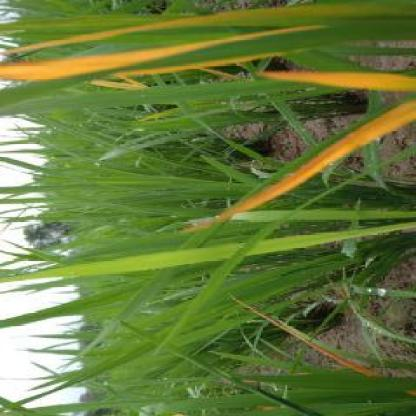Tungro: (205, 98, 416, 226), (1, 21, 339, 82), (252, 71, 416, 93)
